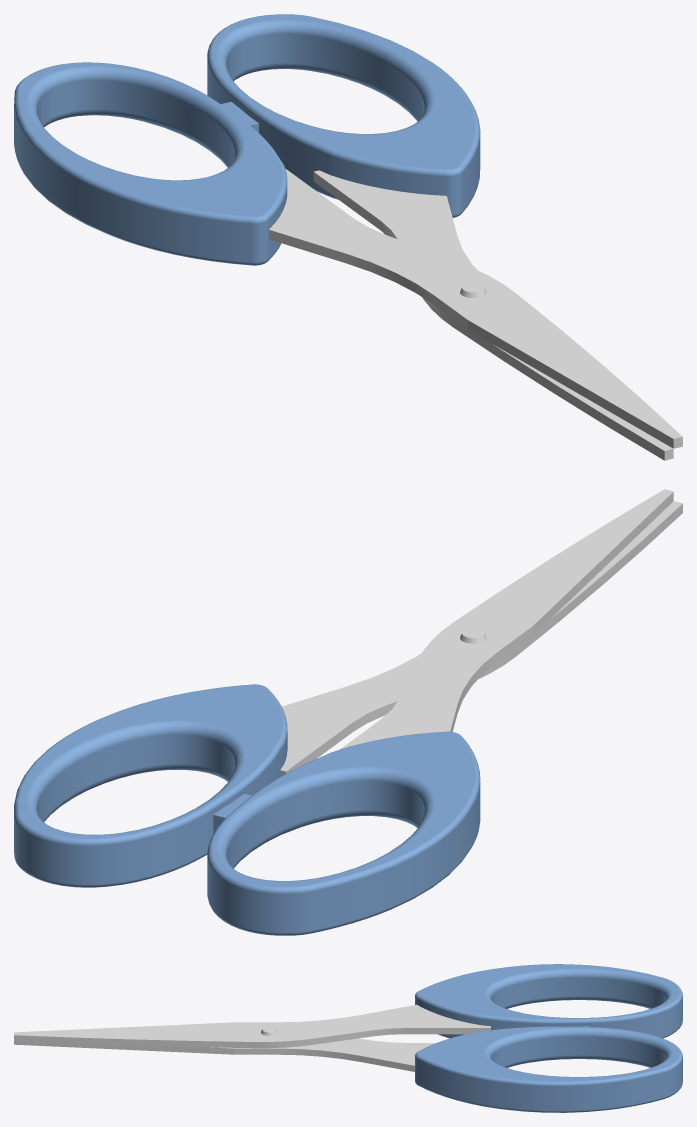
The model's file is 023_ハサミ.glb.
3 renders of one model, top to bottom at view 1: azimuth 30°, elevation 25°; view 2: azimuth 150°, elevation 25°; view 3: azimuth 270°, elevation 25°, orthographic. The views are drawn at different scales.
Parts seen in each view (by area): view 1: 左, 右; view 2: 左, 右; view 3: 左, 右.
Part boxes in pixels (x1,y1,x2,y2): 左: (14, 62, 682, 448); 右: (207, 14, 673, 460); 左: (207, 489, 673, 935); 右: (14, 501, 682, 887); 左: (14, 964, 682, 1048); 右: (14, 1026, 682, 1112).
Bounding box in the file's own units: 0.0835 × 0.01 × 0.1964.
